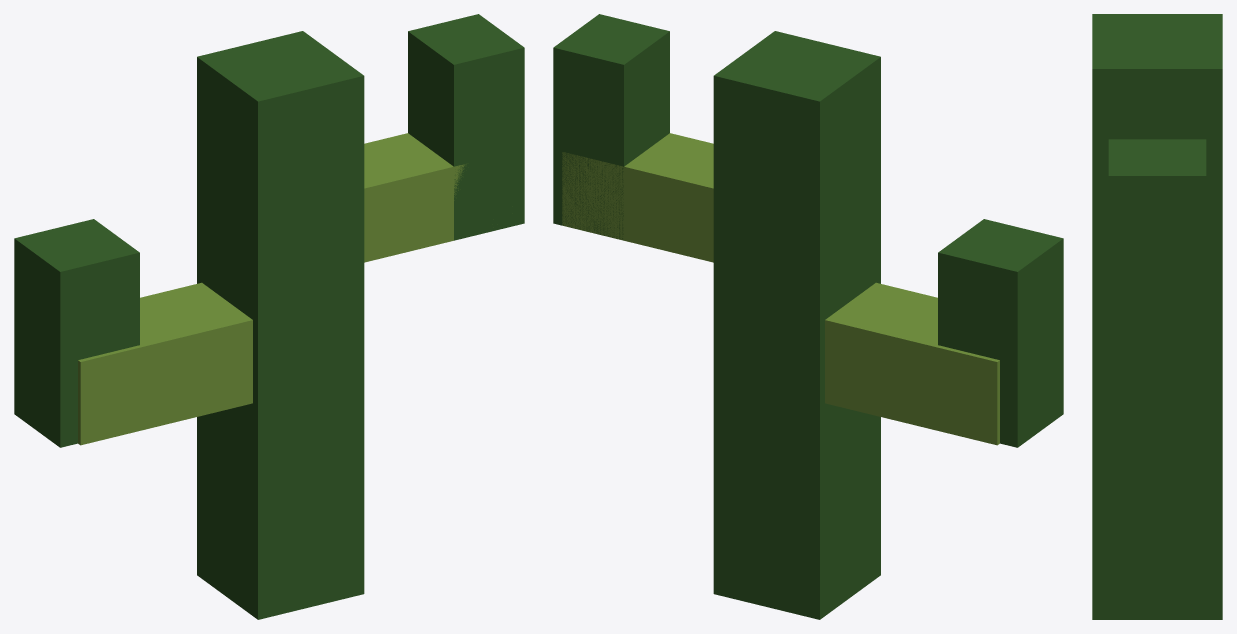
The model's file is Cactus.fbx.
3 renders of one model, left to right at view 1: azimuth 30°, elevation 25°; view 2: azimuth 150°, elevation 25°; view 3: azimuth 270°, elevation 25°, orthographic. The views are drawn at different scales.
Parts seen in each view (by area): view 1: Cactus; view 2: Cactus; view 3: Cactus.
Boxes of the visible parts, <box> form: Cactus: <box>14,14,524,619</box>; Cactus: <box>553,14,1063,619</box>; Cactus: <box>1092,14,1222,619</box>.
Bounding box in the file's own units: 52.5 × 56 × 12.
